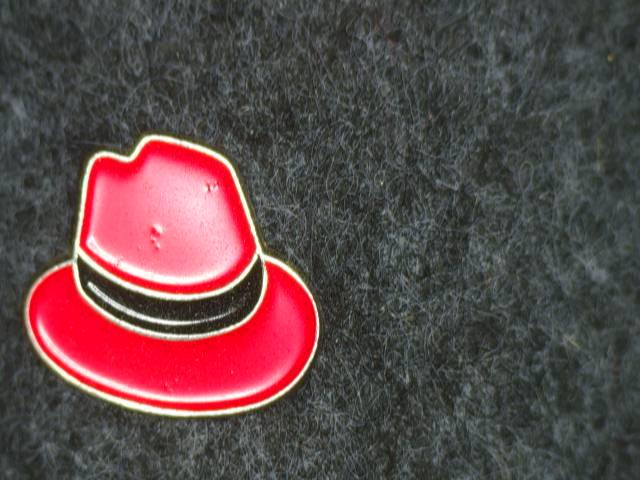Red-Hat: (11, 118, 361, 436)
